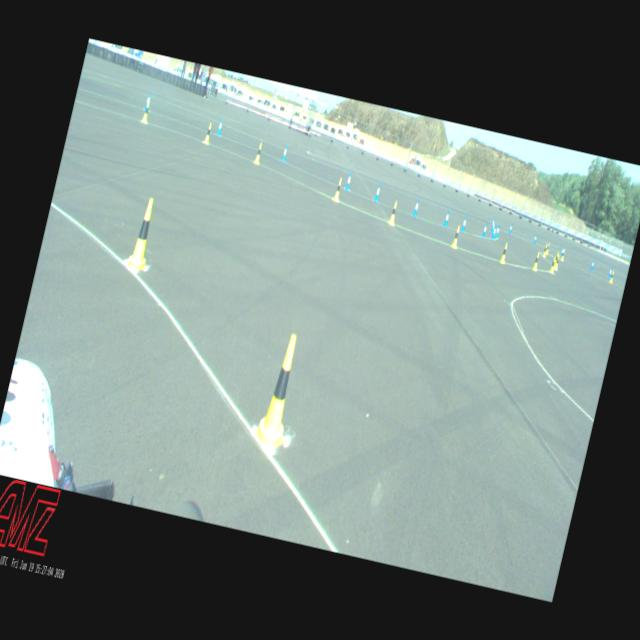blue_cone: (142, 92, 152, 112), (344, 171, 352, 190), (280, 144, 288, 162), (373, 183, 381, 201), (460, 215, 468, 232), (442, 210, 450, 227), (480, 222, 488, 238), (412, 198, 419, 216), (216, 118, 223, 136), (491, 223, 497, 239), (490, 220, 496, 232), (494, 224, 499, 238), (607, 266, 612, 277), (490, 218, 495, 228), (532, 233, 536, 243), (590, 260, 594, 270), (508, 222, 512, 232), (560, 246, 564, 256)
yellow_cone: (254, 332, 307, 446), (124, 198, 160, 272), (451, 224, 462, 248), (498, 242, 509, 264), (388, 200, 398, 224), (141, 99, 151, 123), (254, 142, 264, 164), (202, 122, 212, 144), (333, 177, 342, 200), (532, 251, 540, 270), (548, 256, 556, 273), (553, 254, 560, 270), (608, 270, 616, 282), (553, 250, 559, 266), (542, 243, 548, 257), (544, 241, 550, 254), (560, 248, 566, 260)
